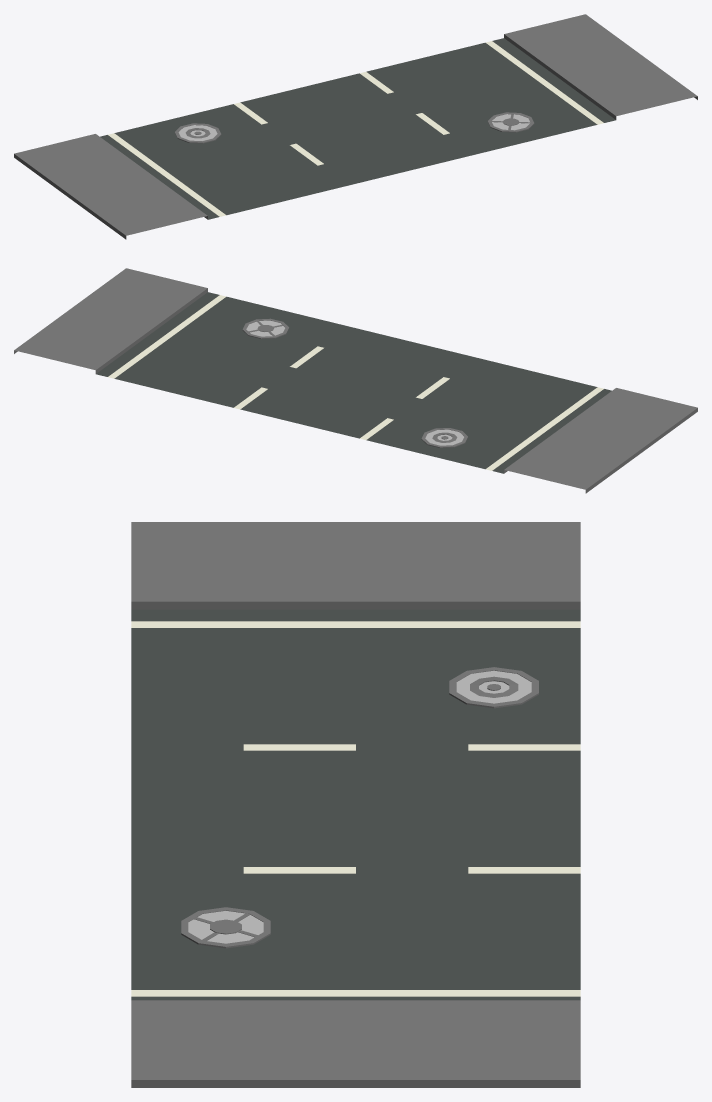
The model's file is Road_Manhole_1.fbx.
3 views of the same model, one above another, from view 1: azimuth 30°, elevation 25°; view 2: azimuth 150°, elevation 25°; view 3: azimuth 270°, elevation 25° (orthographic). The views are drawn at different scales.
Parts seen in each view (by area): view 1: Road_Manhole_1; view 2: Road_Manhole_1; view 3: Road_Manhole_1.
Part boxes in pixels (x1=…): Road_Manhole_1: x1=14, y1=14, x2=697, y2=239; Road_Manhole_1: x1=14, y1=268, x2=697, y2=493; Road_Manhole_1: x1=131, y1=522, x2=580, y2=1087.
Size of the model in its own units: 29.4 by 0.1948 by 10.
1 material, 1 textured.
